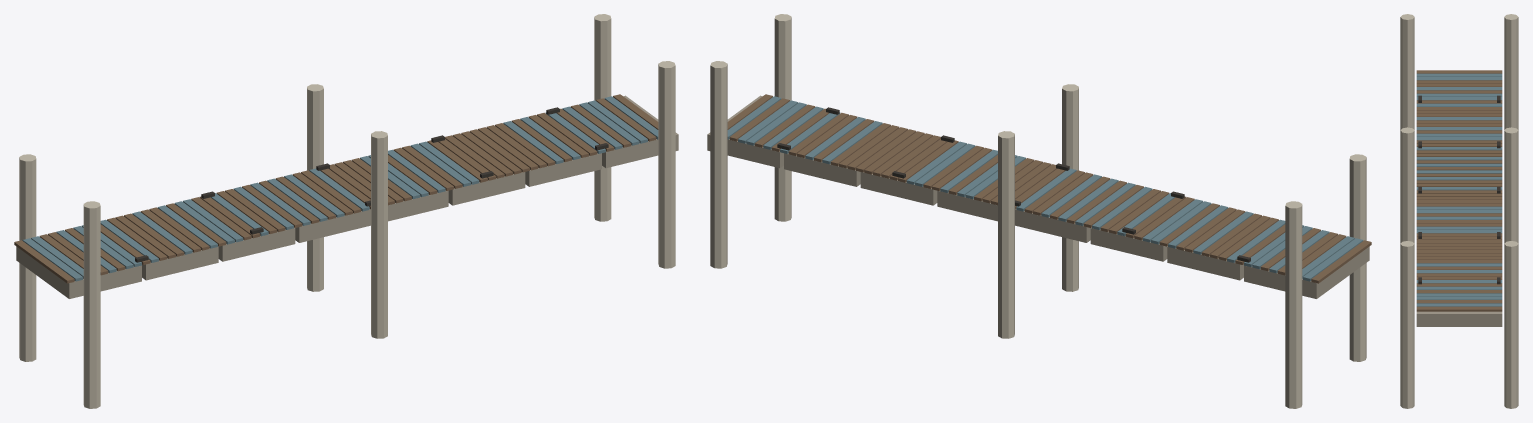
The model's file is yat-iskelesi.glb.
3 views of the same model, side by side, from view 1: azimuth 30°, elevation 25°; view 2: azimuth 150°, elevation 25°; view 3: azimuth 270°, elevation 25° (orthographic). The views are drawn at different scales.
Parts seen in each view (by area): view 1: ahsap, beton, deniz_ahsap, ponton, demir; view 2: ahsap, beton, deniz_ahsap, ponton, demir; view 3: ahsap, beton, deniz_ahsap, ponton, demir.
Boxes of the visible parts, <box> form: ahsap: <box>14,94,658,283</box>; beton: <box>19,14,675,408</box>; deniz_ahsap: <box>22,96,658,281</box>; ponton: <box>16,95,678,298</box>; demir: <box>135,107,608,262</box>; ahsap: <box>727,94,1371,283</box>; beton: <box>710,14,1366,408</box>; deniz_ahsap: <box>727,96,1363,281</box>; ponton: <box>707,95,1369,298</box>; demir: <box>777,107,1250,262</box>; ahsap: <box>1416,70,1502,311</box>; beton: <box>1400,14,1518,408</box>; deniz_ahsap: <box>1416,73,1502,306</box>; ponton: <box>1416,311,1502,326</box>; demir: <box>1418,95,1500,284</box>.
Bounding box in the file's own units: 15.95 × 5 × 3.3.
